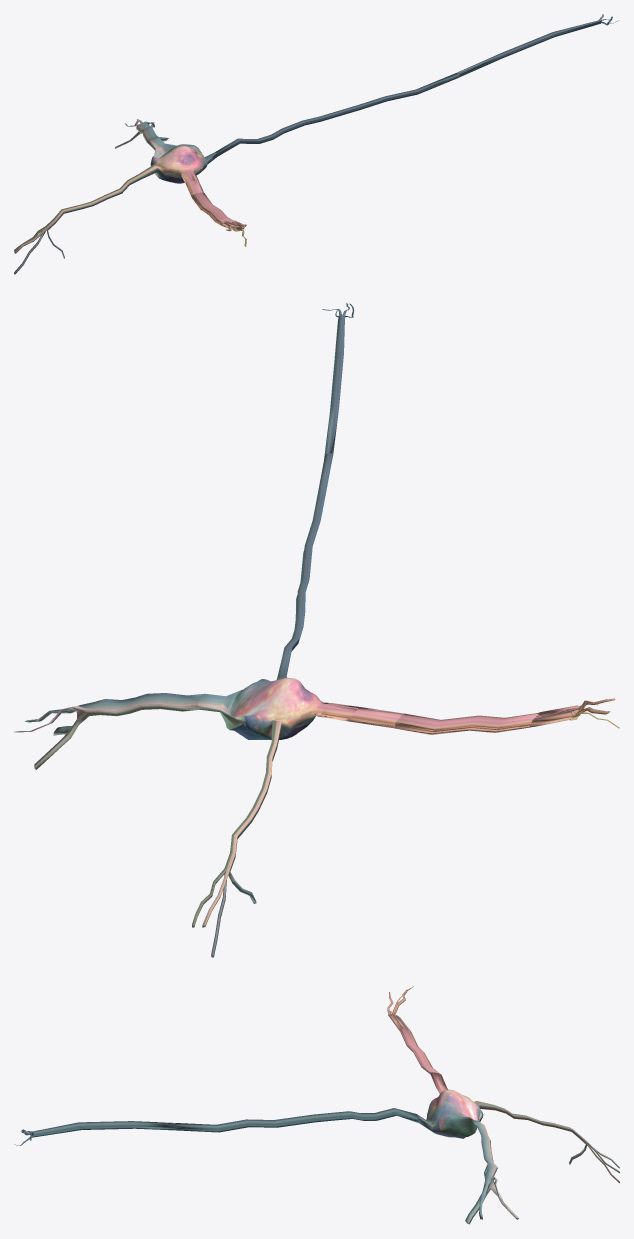
File: neuron8.fbx
The picture shows the model from 3 angles, top to bottom: view 1: azimuth 90°, elevation 25°; view 2: azimuth 150°, elevation 25°; view 3: azimuth 270°, elevation 25°; orthographic projection. The views are drawn at different scales.
Visible parts, largest first — view 1: DONE3.002; view 2: DONE3.002; view 3: DONE3.002.
Part boxes in pixels (bbox=[...]): DONE3.002: bbox=[14, 14, 619, 274]; DONE3.002: bbox=[14, 303, 619, 957]; DONE3.002: bbox=[14, 986, 619, 1224].
Size of the model in its own units: 11114 by 4408 by 15529.
